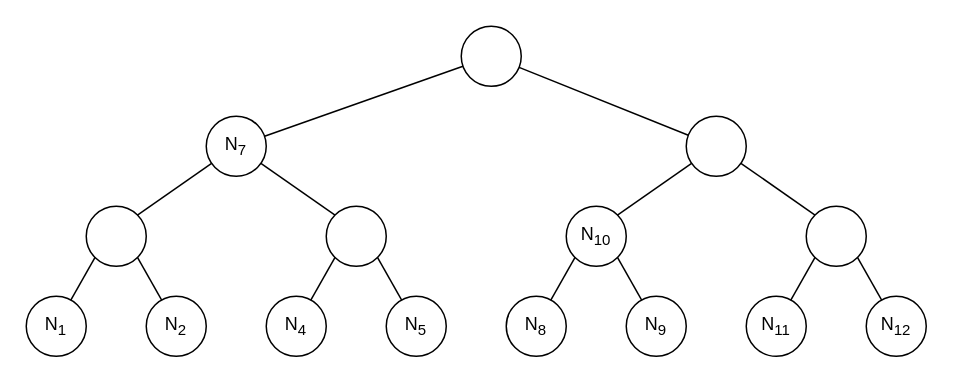
The diagram is 953 pixels wide and 383 high, and some of its shapes have lost their labels. The centre of each missing label's shape, as x and y in pixels:
N 13: the point at 835,235
N 14: the point at 715,145
N 15: the point at 490,55
N 3: the point at 115,235
N 6: the point at 355,235
